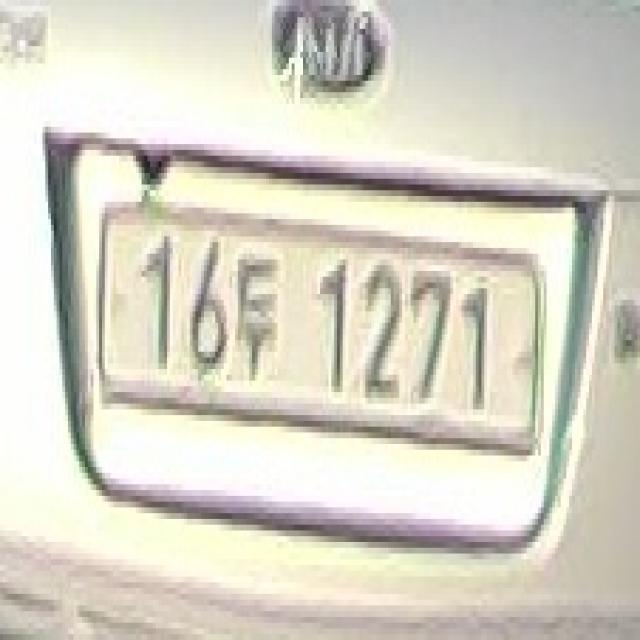1: (311, 242, 357, 421), (136, 225, 181, 392), (462, 271, 496, 432)
2: (357, 248, 408, 415)
6: (187, 231, 232, 386)
7: (405, 248, 456, 415)
du: (232, 248, 286, 392)
license_plate: (90, 190, 546, 467)
